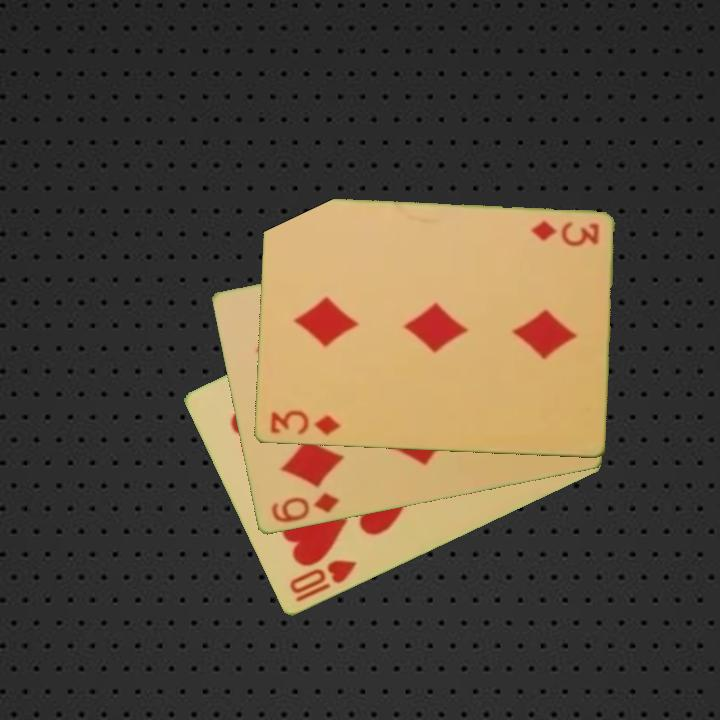10h: (285, 556, 360, 606)
3d: (267, 407, 343, 439), (527, 218, 602, 248)
6d: (267, 490, 342, 526)
